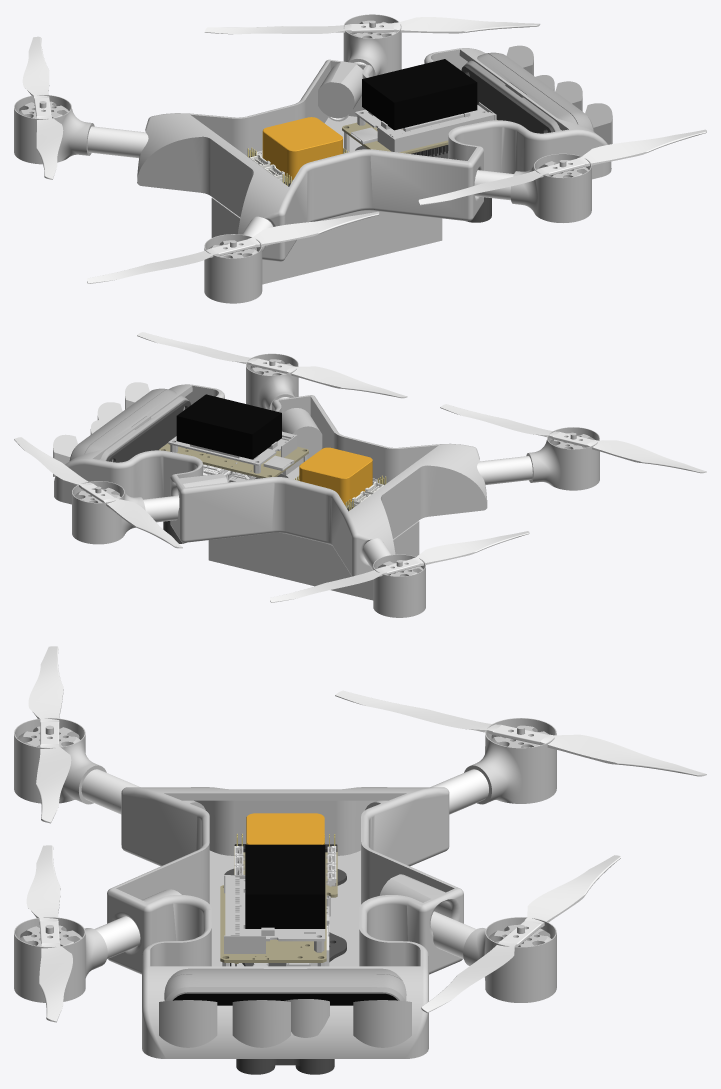
File: ihunter-agile.glb
3 renders of one model, top to bottom at view 1: azimuth 30°, elevation 25°; view 2: azimuth 150°, elevation 25°; view 3: azimuth 270°, elevation 25°, orthographic. The views are drawn at different scales.
Visible parts, largest first — view 1: core-2, 6s 3300 mAh battery-1, fan-1, arm_motor_assy-4/f100_bracket-1, Intel_RealSense_D455_CAD_external_v2-1/MD0645501_ASM_12_ASM- (×2), Cube_1-1/std_cube_lid_h20-1mm_20180816.stp_1-1, arm_motor_assy-1/8in Propeller-1, arm_motor_assy-3/8in Propeller-1, arm_motor_assy-4/8in Propeller-1, arm_motor_assy-3/f100_bracket-1, arm_motor_assy-2/f100_bracket-1, arm_motor_assy-2/8in Propeller-1 (+8 smaller); view 2: core-2, 6s 3300 mAh battery-1, fan-1, arm_motor_assy-3/f100_bracket-1, Intel_RealSense_D455_CAD_external_v2-1/MD0645501_ASM_12_ASM- (×2), Cube_1-1/std_cube_lid_h20-1mm_20180816.stp_1-1, arm_motor_assy-4/8in Propeller-1, arm_motor_assy-3/8in Propeller-1, arm_motor_assy-2/8in Propeller-1, arm_motor_assy-1/f100_bracket-1, arm_motor_assy-2/f100_bracket-1, arm_motor_assy-1/8in Propeller-1 (+8 smaller); view 3: core-2, Intel_RealSense_D455_CAD_external_v2-1/AM0600115_REV01_ASM_E (×4), Intel_RealSense_D455_CAD_external_v2-1/MD0645501_ASM_12_ASM- (×3), fan-1, arm_motor_assy-2/f100_bracket-1, arm_motor_assy-1/f100_bracket-1, arm_motor_assy-2/8in Propeller-1, arm_motor_assy-1/8in Propeller-1, arm_motor_assy-3/8in Propeller-1, arm_motor_assy-4/8in Propeller-1, arm_motor_assy-4/f100_bracket-1, 203_paba-1/PCB_203_ASM_ASM_16_ASM_1_ASM_1__ASM-1/PCB_203_ASM (×2) (+11 smaller).
Part boxes in pixels (x1,y1,x2,y2): core-2: [137, 48, 611, 261]; 6s 3300 mAh battery-1: [211, 197, 442, 284]; fan-1: [362, 59, 477, 130]; arm_motor_assy-4/f100_bracket-1: [510, 153, 591, 222]; Intel_RealSense_D455_CAD_external_v2-1/MD0645501_ASM_12_ASM- (×2): [464, 52, 594, 132]; Cube_1-1/std_cube_lid_h20-1mm_20180816.stp_1-1: [262, 117, 342, 180]; arm_motor_assy-1/8in Propeller-1: [204, 17, 540, 34]; arm_motor_assy-3/8in Propeller-1: [87, 211, 379, 283]; arm_motor_assy-4/8in Propeller-1: [418, 129, 706, 205]; arm_motor_assy-3/f100_bracket-1: [204, 234, 262, 303]; arm_motor_assy-2/f100_bracket-1: [14, 95, 94, 164]; arm_motor_assy-2/8in Propeller-1: [22, 36, 63, 179]; core-2: [54, 384, 487, 576]; 6s 3300 mAh battery-1: [208, 521, 419, 600]; fan-1: [176, 394, 281, 459]; arm_motor_assy-3/f100_bracket-1: [526, 427, 599, 490]; Intel_RealSense_D455_CAD_external_v2-1/MD0645501_ASM_12_ASM- (×2): [69, 388, 188, 461]; Cube_1-1/std_cube_lid_h20-1mm_20180816.stp_1-1: [299, 447, 372, 505]; arm_motor_assy-4/8in Propeller-1: [137, 332, 407, 398]; arm_motor_assy-3/8in Propeller-1: [440, 404, 706, 473]; arm_motor_assy-2/8in Propeller-1: [270, 531, 529, 602]; arm_motor_assy-1/f100_bracket-1: [72, 481, 145, 544]; arm_motor_assy-2/f100_bracket-1: [373, 554, 425, 617]; arm_motor_assy-1/8in Propeller-1: [14, 437, 182, 548]; core-2: [107, 787, 463, 1058]; Intel_RealSense_D455_CAD_external_v2-1/AM0600115_REV01_ASM_E (×4): [159, 999, 411, 1047]; Intel_RealSense_D455_CAD_external_v2-1/MD0645501_ASM_12_ASM- (×3): [164, 968, 406, 1005]; fan-1: [245, 844, 325, 928]; arm_motor_assy-2/f100_bracket-1: [464, 718, 556, 804]; arm_motor_assy-1/f100_bracket-1: [463, 917, 556, 1002]; arm_motor_assy-2/8in Propeller-1: [335, 690, 706, 776]; arm_motor_assy-1/8in Propeller-1: [421, 855, 620, 1013]; arm_motor_assy-3/8in Propeller-1: [28, 646, 71, 823]; arm_motor_assy-4/8in Propeller-1: [26, 845, 72, 1022]; arm_motor_assy-4/f100_bracket-1: [14, 917, 107, 1002]; 203_paba-1/PCB_203_ASM_ASM_16_ASM_1_ASM_1__ASM-1/PCB_203_ASM (×2): [220, 875, 326, 963].
Size of the model in its own units: 0.4331 by 0.0981 by 0.3383.
